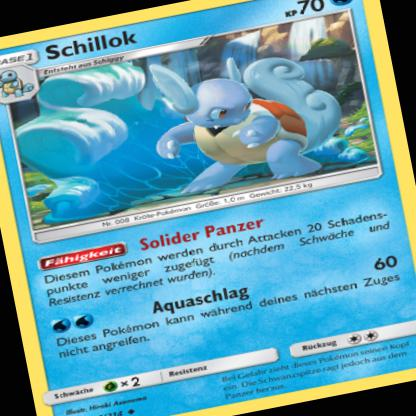Wartortle: (144, 38, 356, 202)
